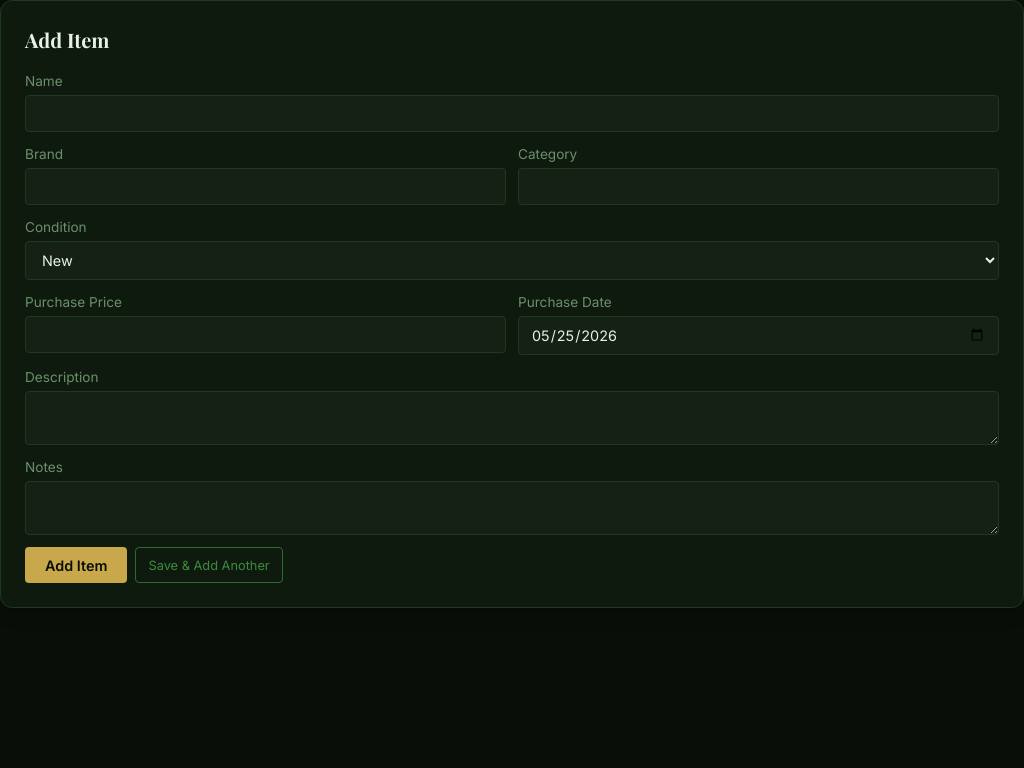
Scenario: AddItemForm › submit with negative purchasePrice shows validation error
The width and height of the screenshot is (1024, 768).
Type "Test Item" into the field labelled "Name" at (512, 114), box x1=25 y1=95 x2=999 y2=132
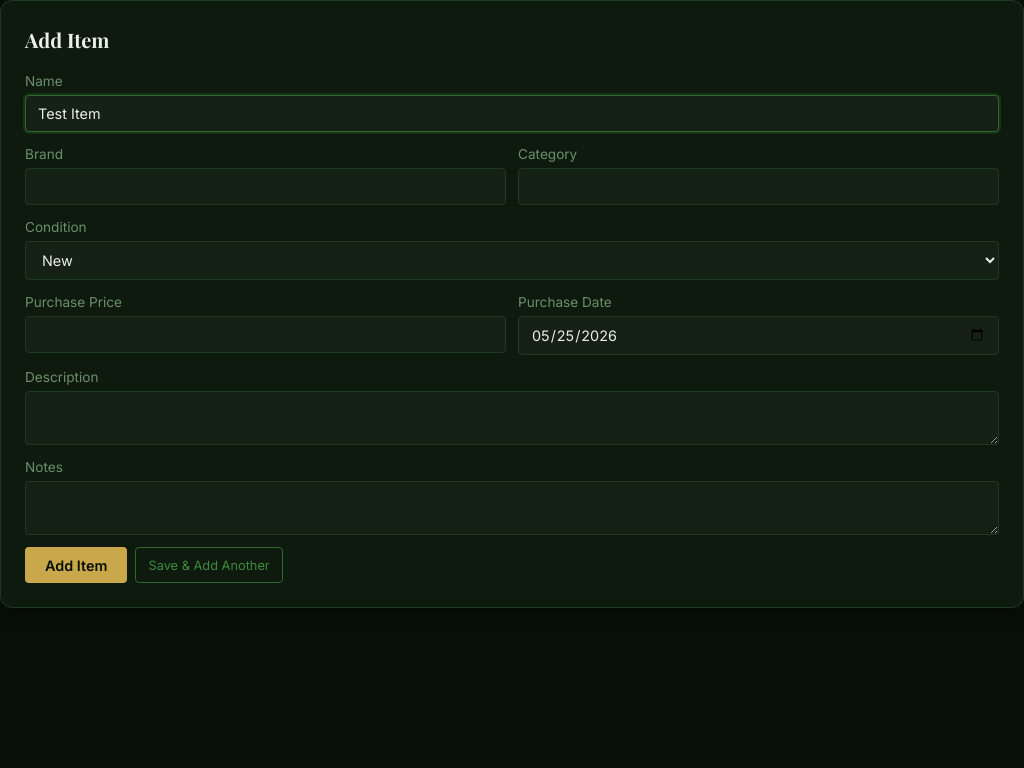
Type "-10" into the number field labelled "Purchase Price" at (266, 335), box x1=25 y1=316 x2=506 y2=353
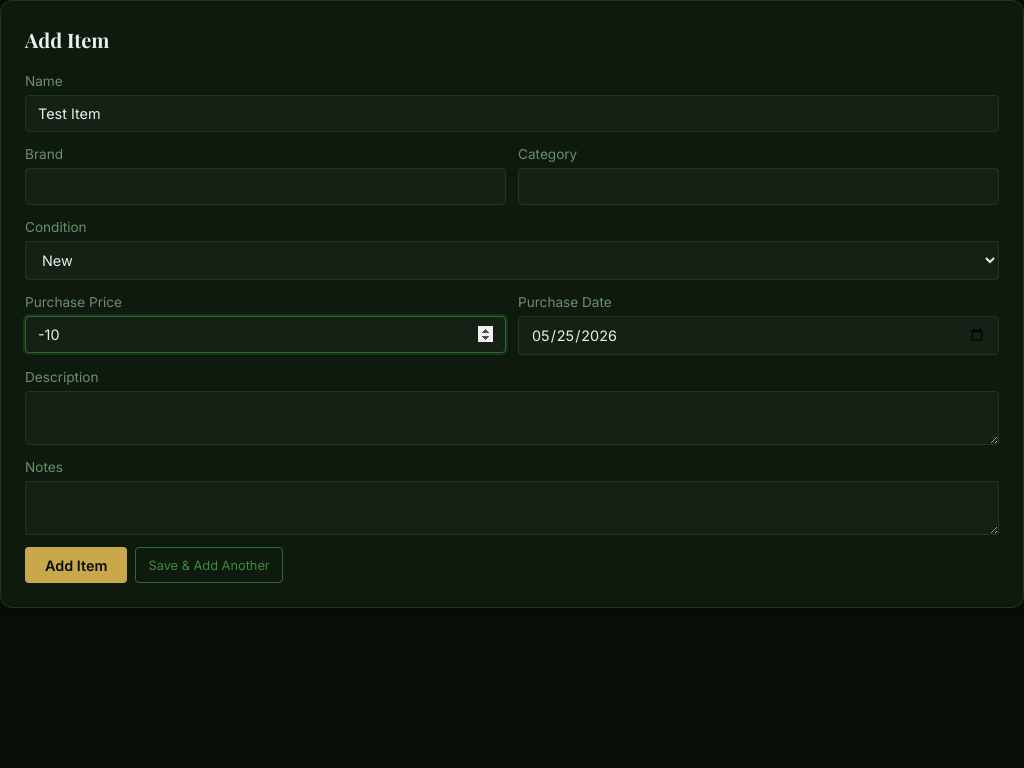
Click the button "Add Item" at (76, 565), box x1=25 y1=547 x2=127 y2=583
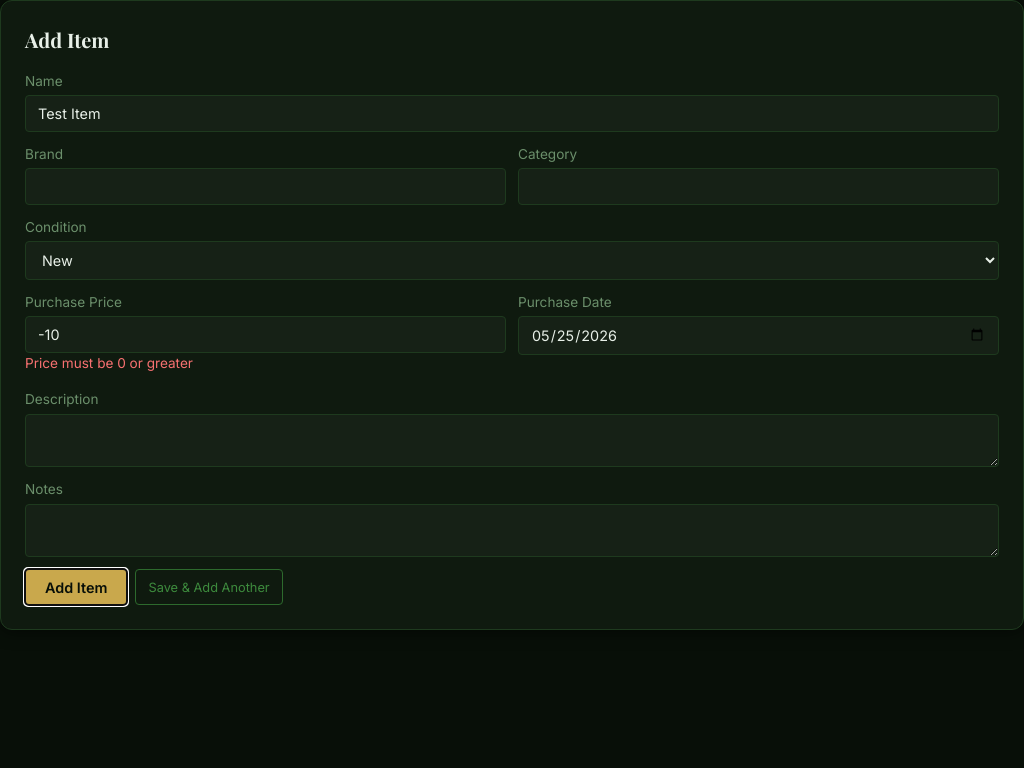
Now the text "Price must be 0 or greater" is shown, box x1=25 y1=355 x2=193 y2=371
